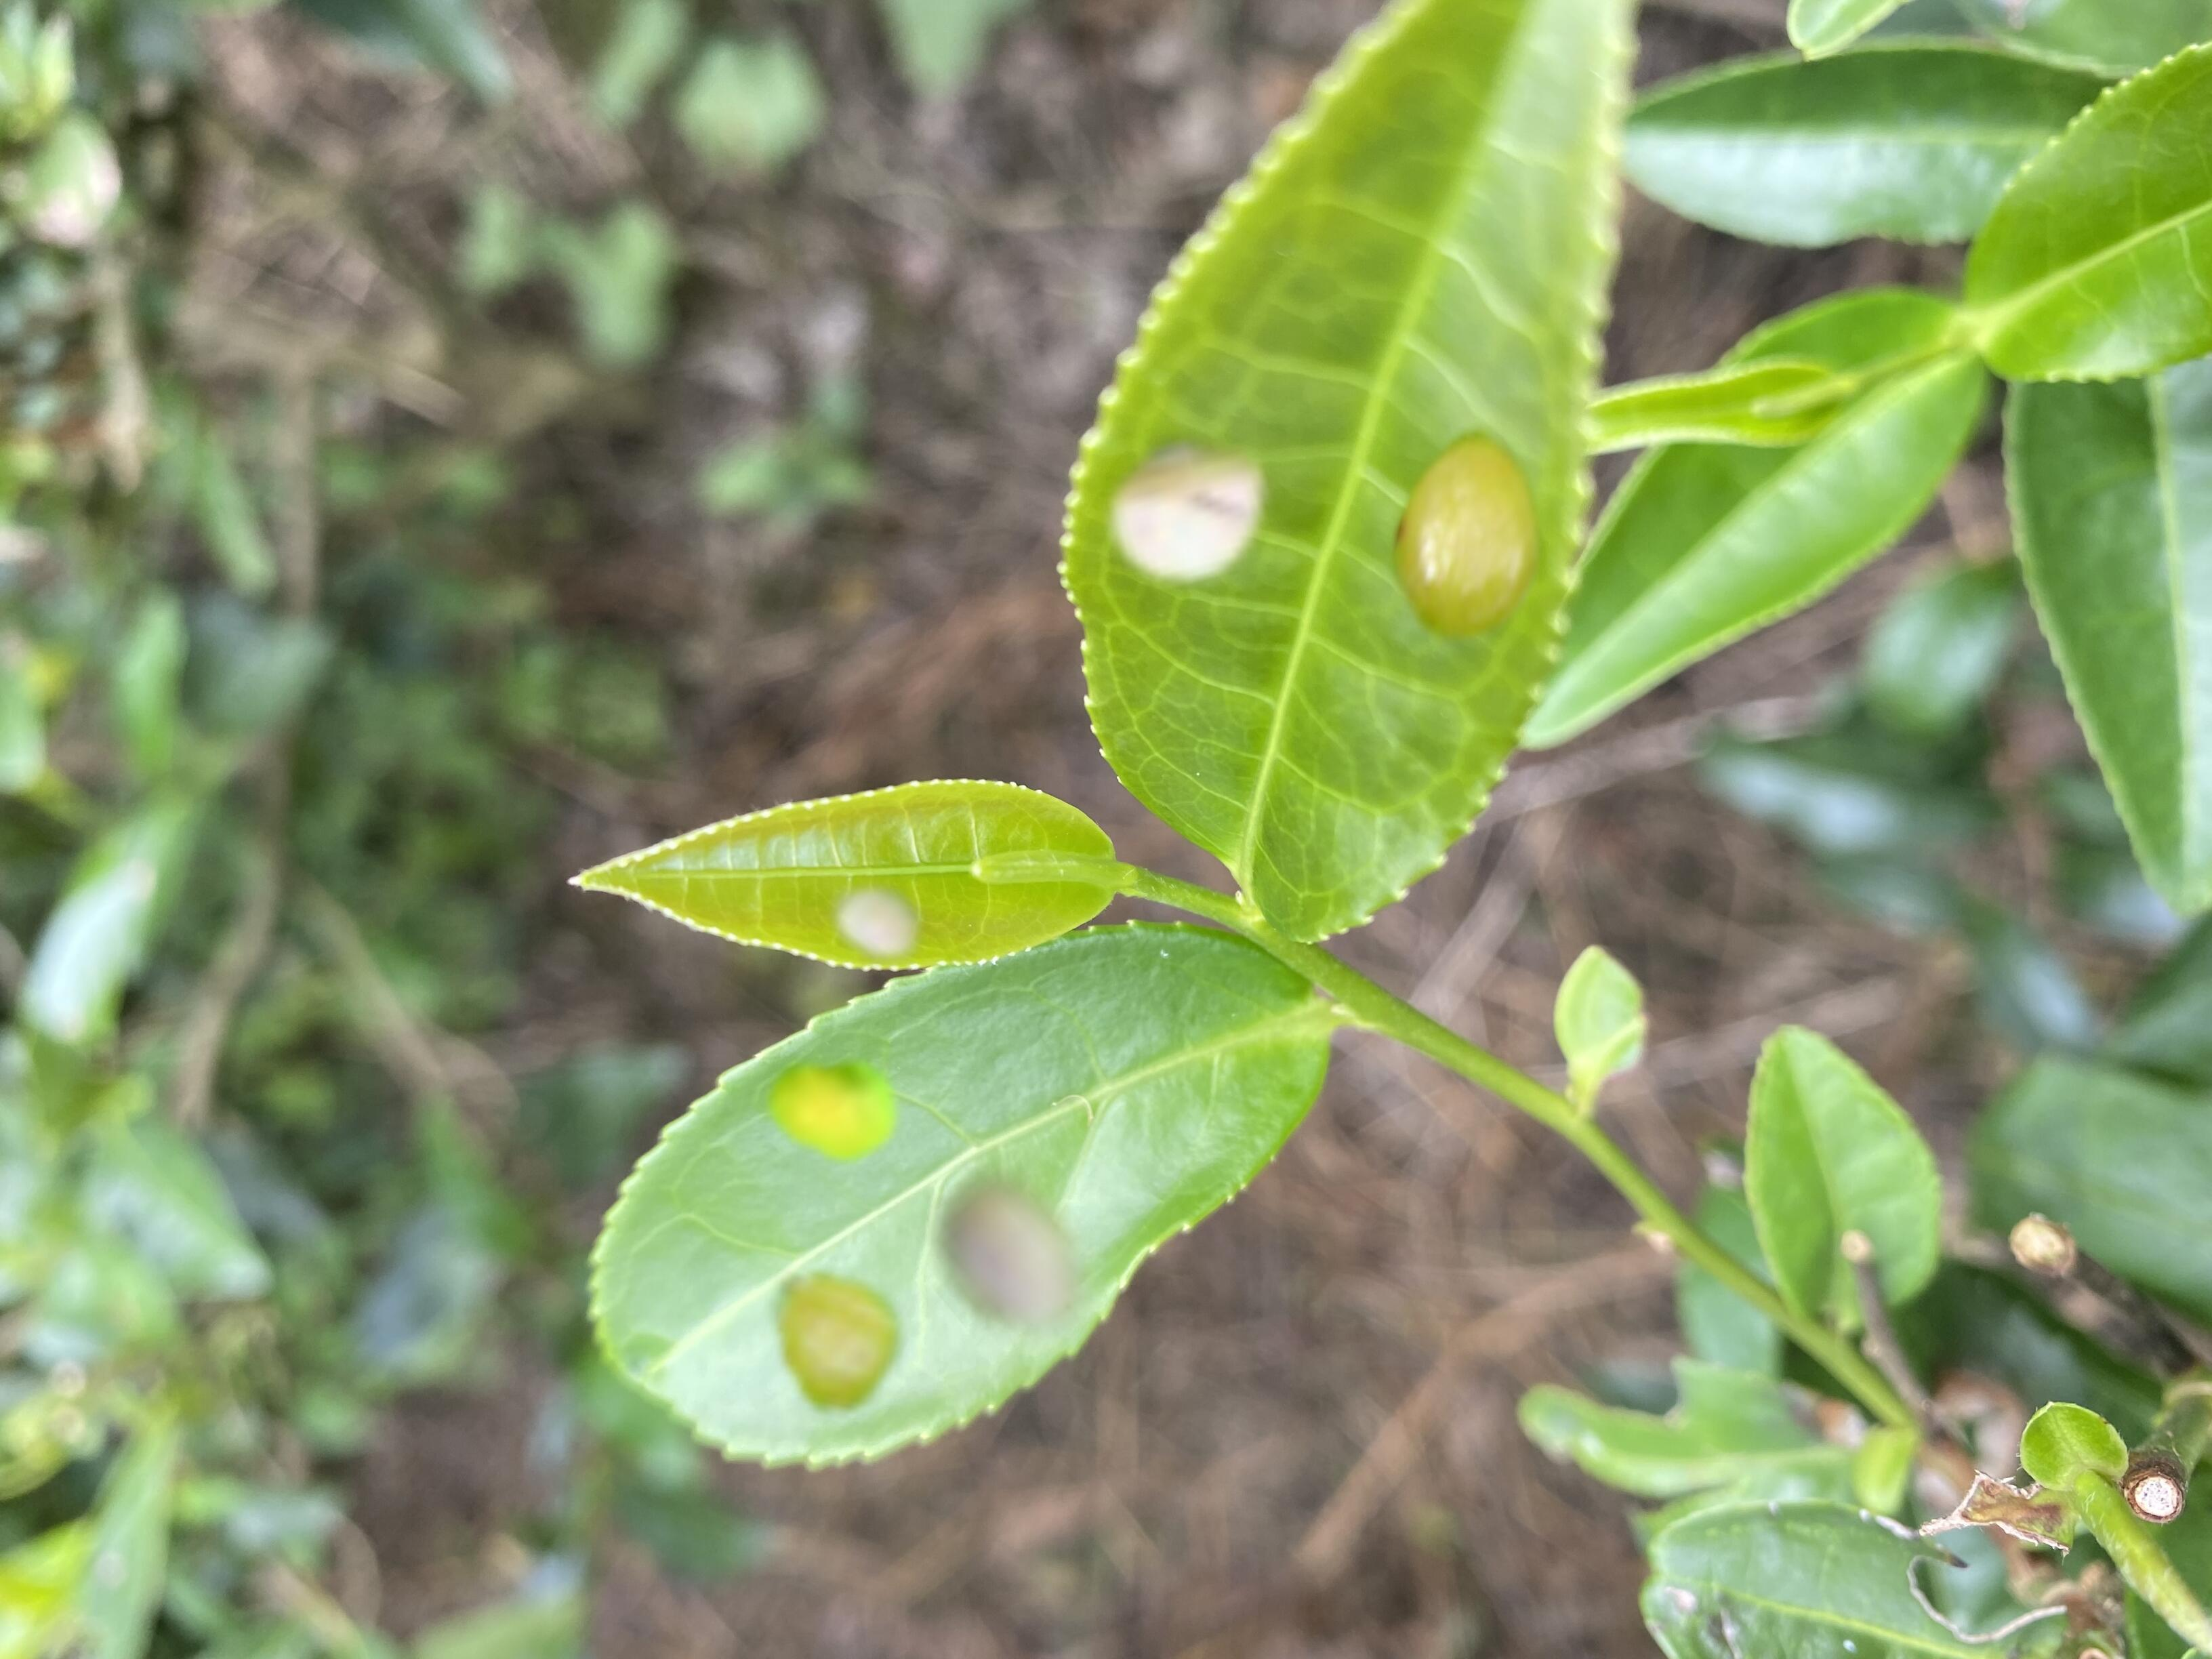chabing_high: (1054, 2, 1634, 950), (587, 920, 1332, 1469)
chabing_low: (566, 772, 1115, 972)
